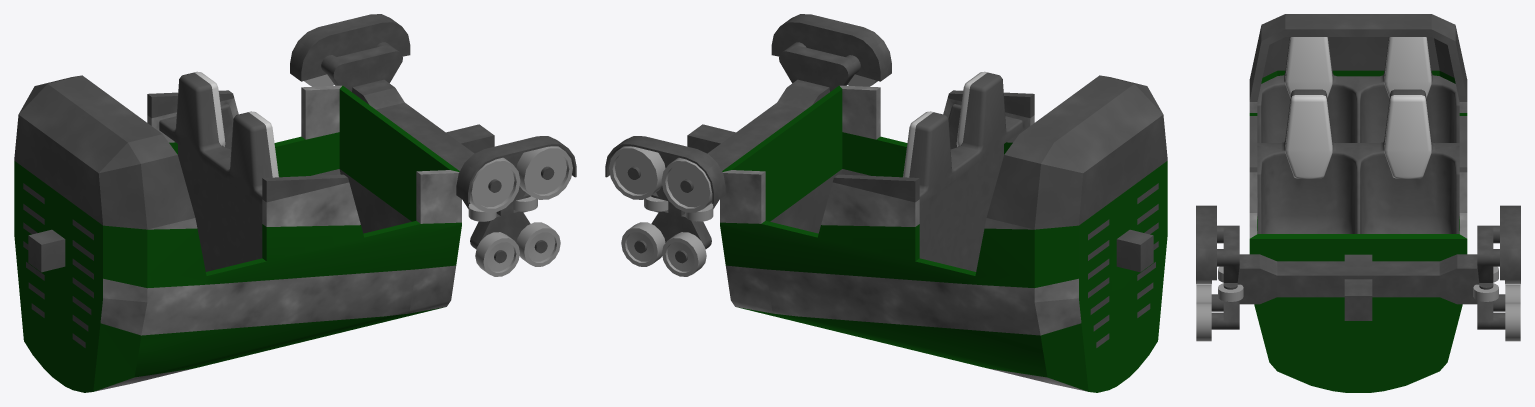
The model's file is car.obj.
3 renders of one model, left to right at view 1: azimuth 30°, elevation 25°; view 2: azimuth 150°, elevation 25°; view 3: azimuth 270°, elevation 25°, orthographic. The views are drawn at different scales.
Parts seen in each view (by area): view 1: Cube.002, Cube.006, Cube.003, Cube.001; view 2: Cube.002, Cube.006, Cube.003, Cube.001; view 3: Cube.002, Cube.003, Cube.006, Cube.001.
Boxes of the visible parts, bbox=[...] form: Cube.002: bbox=[14, 71, 420, 392]; Cube.006: bbox=[290, 14, 576, 276]; Cube.003: bbox=[301, 85, 461, 316]; Cube.001: bbox=[376, 102, 494, 170]; Cube.002: bbox=[761, 71, 1167, 392]; Cube.006: bbox=[605, 14, 891, 276]; Cube.003: bbox=[720, 85, 880, 316]; Cube.001: bbox=[687, 102, 805, 170]; Cube.002: bbox=[1249, 14, 1467, 233]; Cube.003: bbox=[1249, 213, 1467, 392]; Cube.006: bbox=[1196, 205, 1520, 341]; Cube.001: bbox=[1277, 261, 1439, 320].
Bounding box in the file's own units: 3.06 × 1.69 × 2.08.
